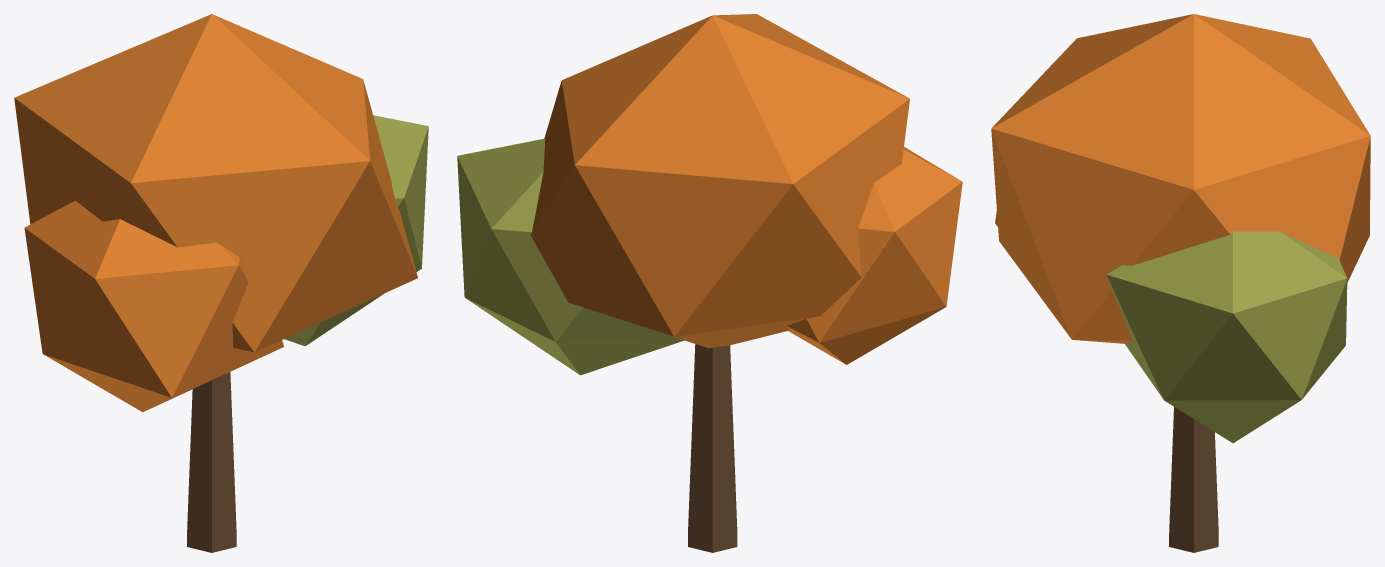
The model's file is tree_autumn.glb.
3 views of the same model, side by side, from view 1: azimuth 30°, elevation 25°; view 2: azimuth 150°, elevation 25°; view 3: azimuth 270°, elevation 25° (orthographic).
Parts seen in each view (by area): view 1: tree_autumn; view 2: tree_autumn; view 3: tree_autumn.
Part boxes in pixels (bbox=[...]): tree_autumn: bbox=[14, 14, 428, 552]; tree_autumn: bbox=[457, 14, 962, 552]; tree_autumn: bbox=[991, 14, 1370, 552].
Size of the model in its own units: 0.3878 by 0.4454 by 0.2907.
